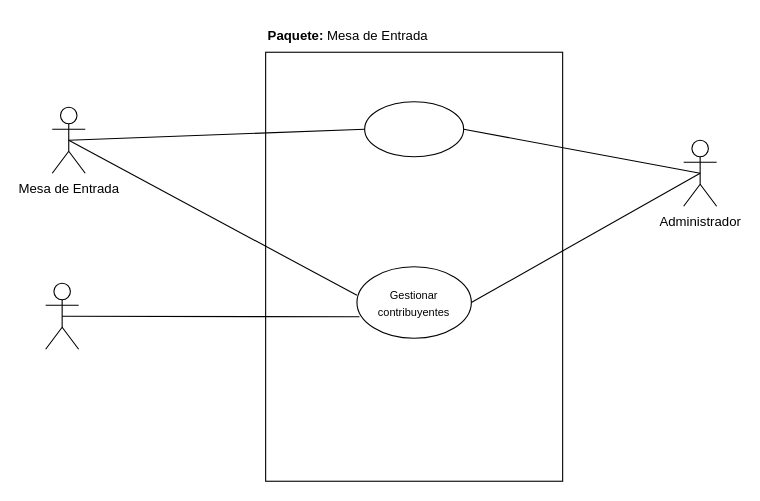
Image size: 760x501. Some labels were removed from this diagram. Each missing label, with the box of its shape:
Comercio: (45, 282, 79, 349)
Registrar nuevo expediente: (364, 101, 464, 157)
